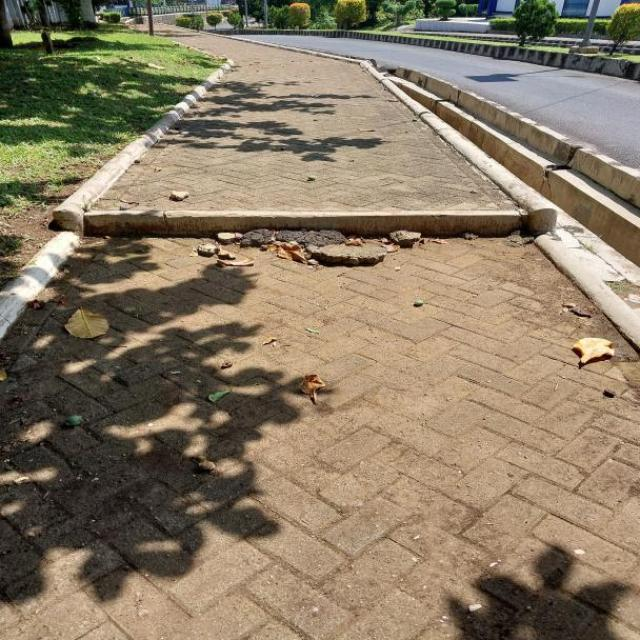stones ahead at: (206, 225, 422, 278)
